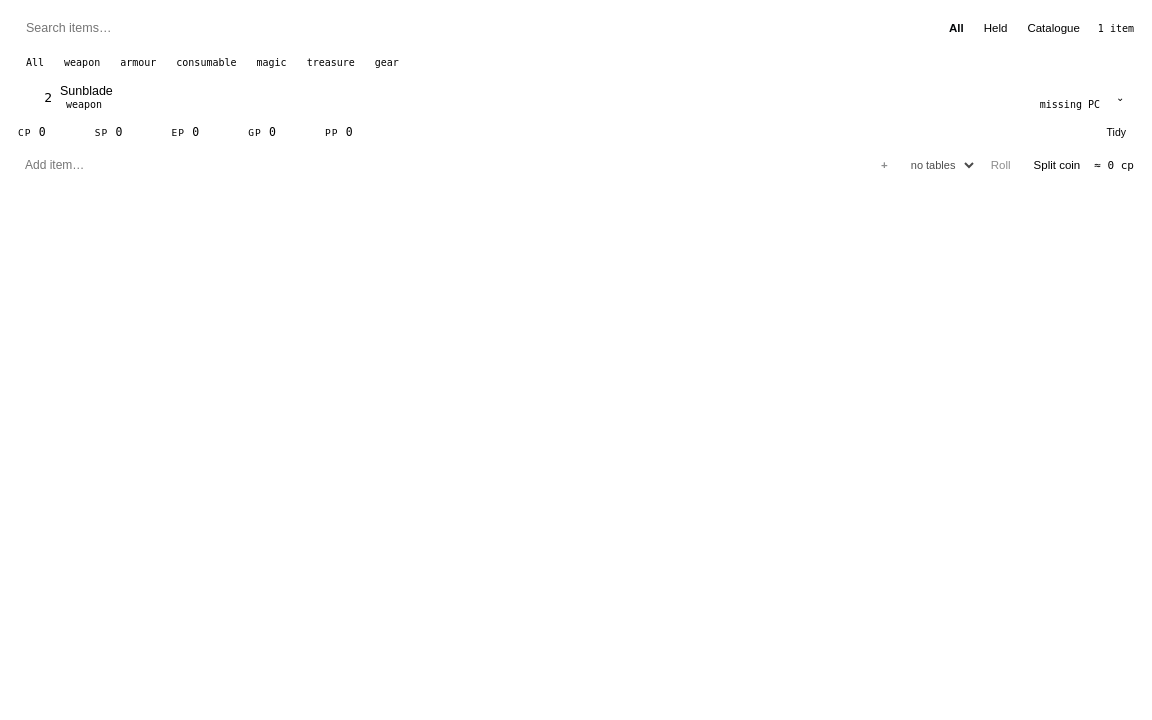
Test: Items ledger › surfaces a holding pointing at a deleted PC instead of losing it
Click the text "Sunblade": (86,91) [60,84,113,98]
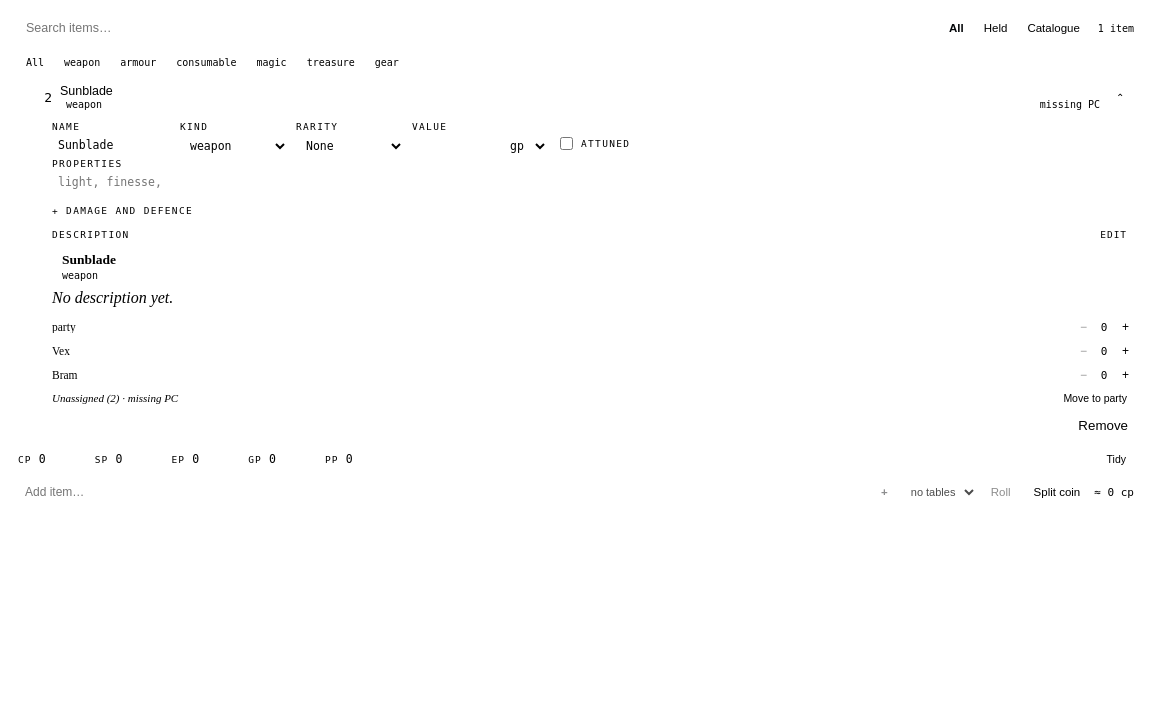
Expected: the text "Unassigned (2) · missing PC" is shown, [52,392,178,404]
